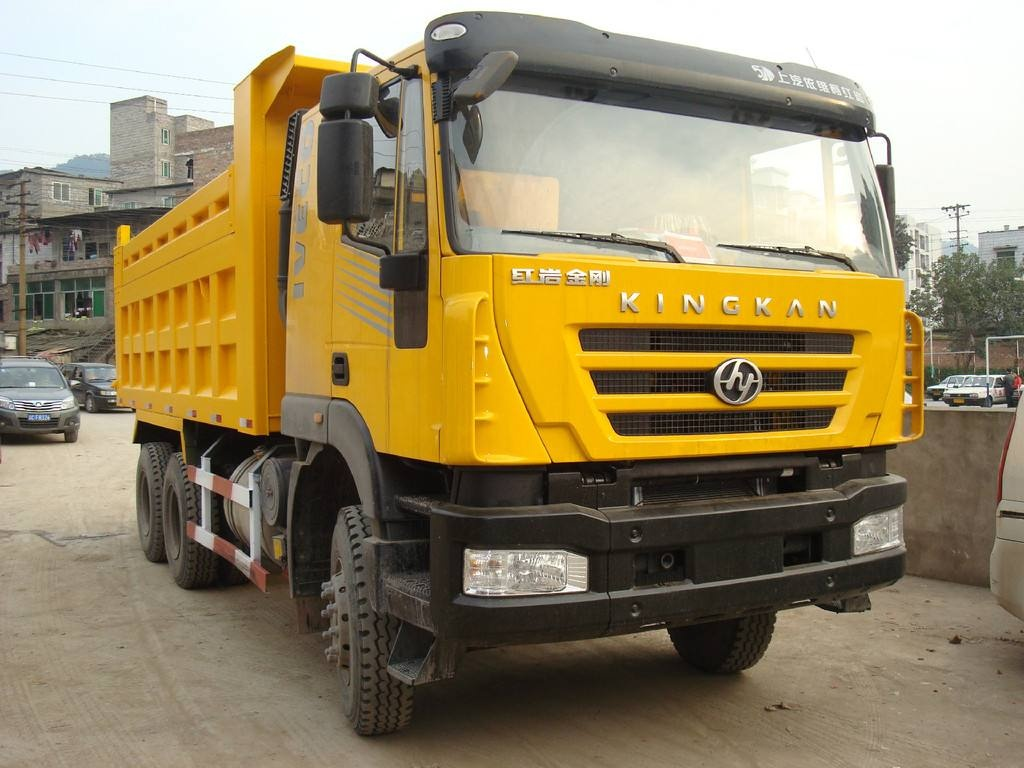heavy truck: (91, 27, 921, 733)
